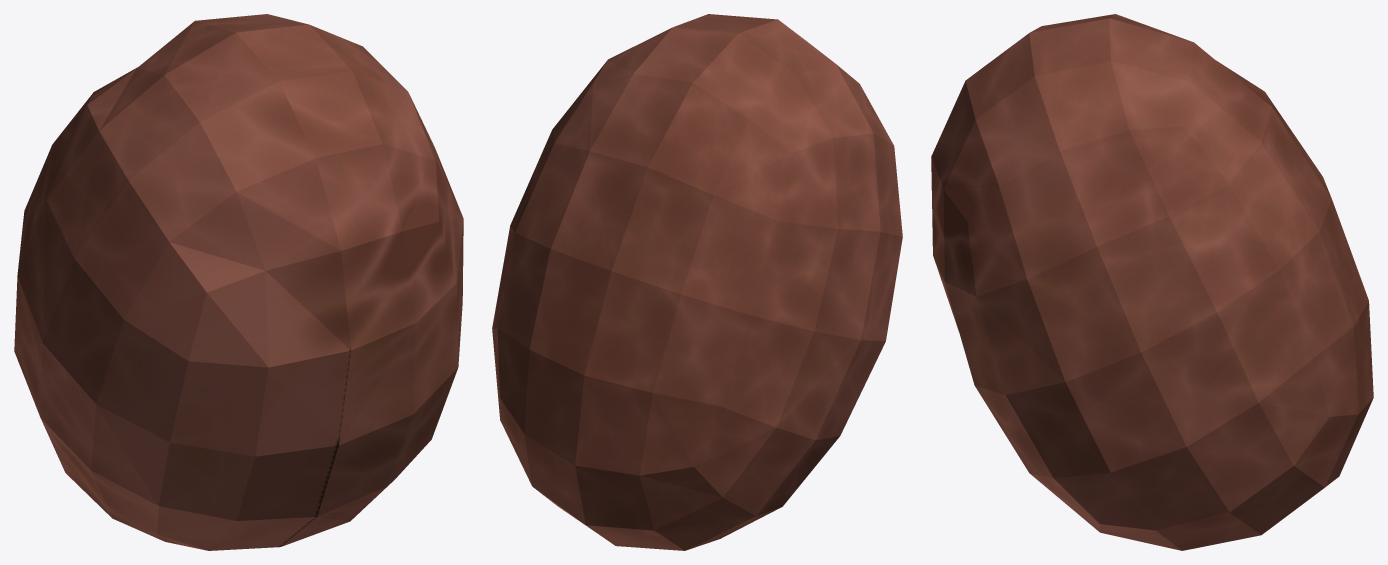
The model's file is Ovary_Right_Alone.obj.
3 views of the same model, side by side, from view 1: azimuth 30°, elevation 25°; view 2: azimuth 150°, elevation 25°; view 3: azimuth 270°, elevation 25° (orthographic). The views are drawn at different scales.
Parts seen in each view (by area): view 1: Utero3_Ovarios.001; view 2: Utero3_Ovarios.001; view 3: Utero3_Ovarios.001.
Part boxes in pixels (x1,y1,x2,y2): Utero3_Ovarios.001: [14, 14, 463, 550]; Utero3_Ovarios.001: [492, 14, 902, 550]; Utero3_Ovarios.001: [931, 14, 1373, 550].
Size of the model in its own units: 0.3572 by 0.489 by 0.3936.
1 material, 1 textured.
